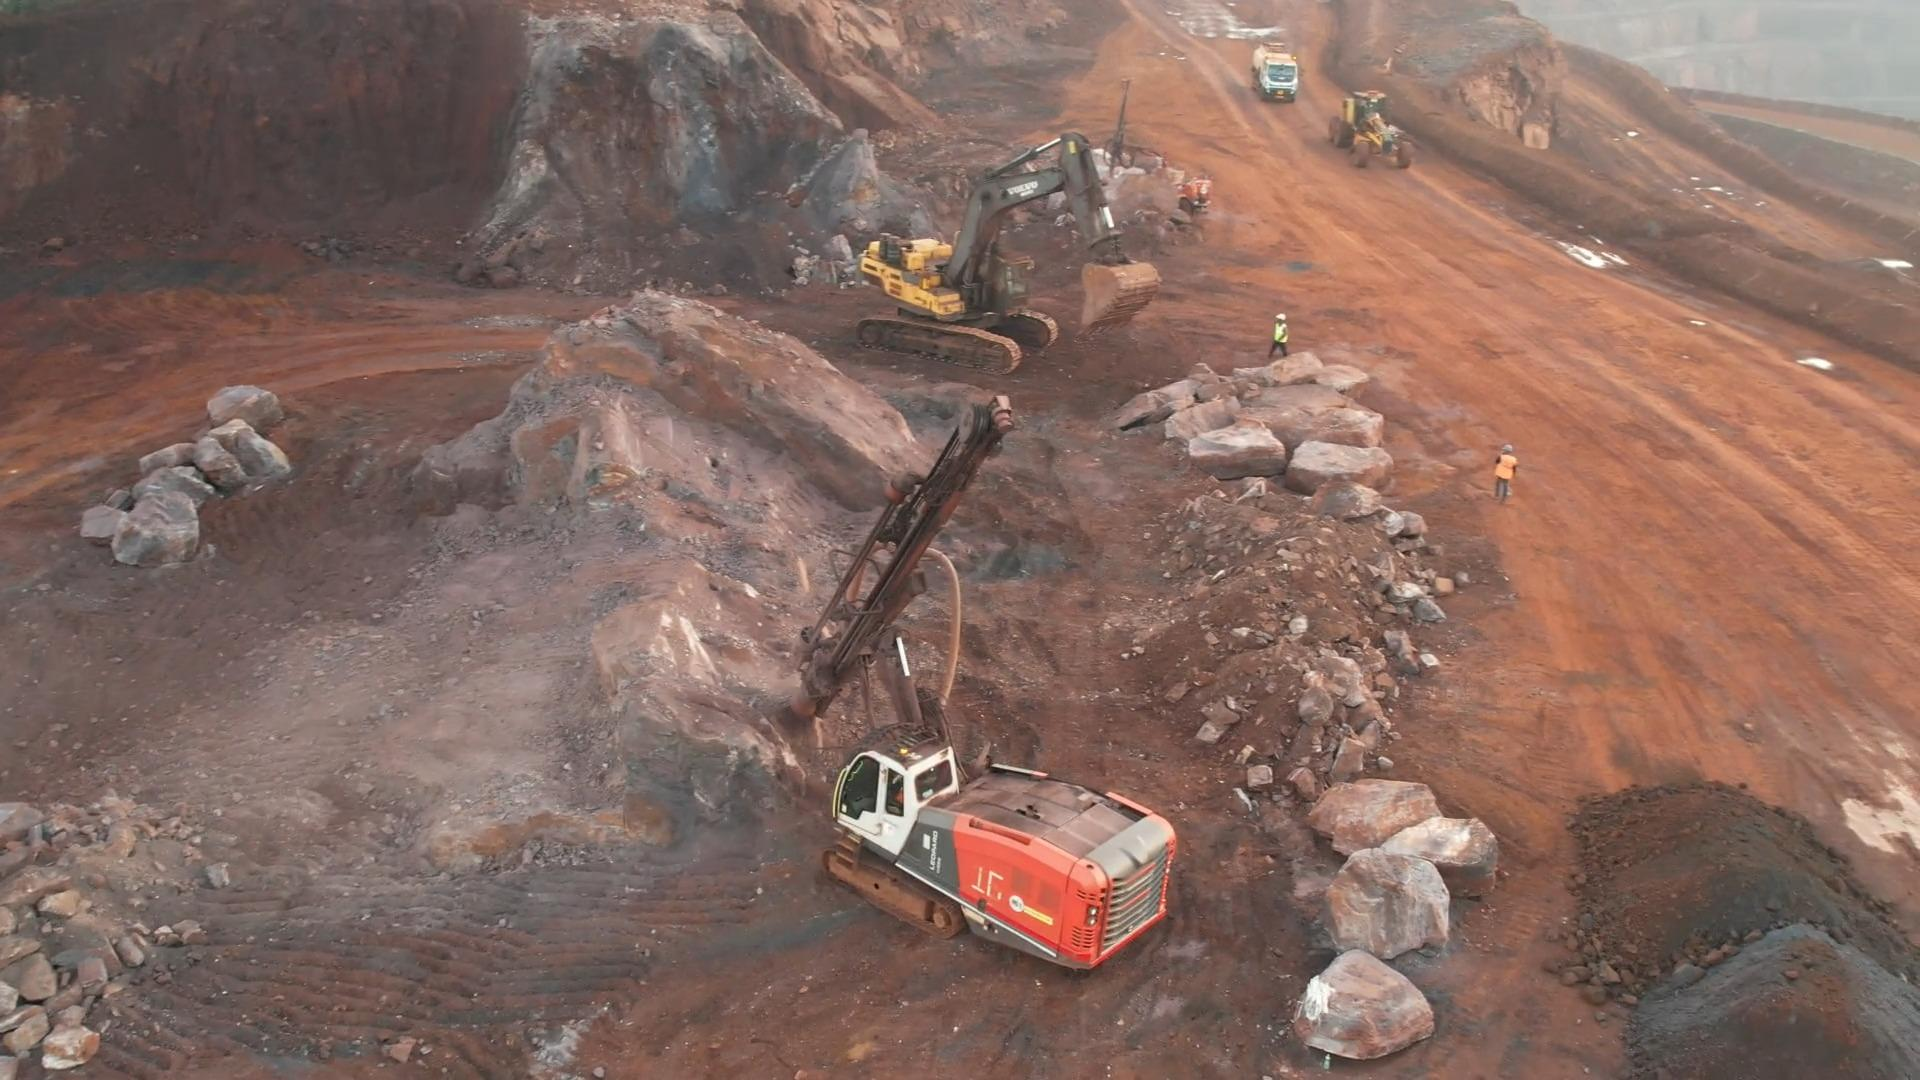excavator: (858, 134, 1135, 354)
